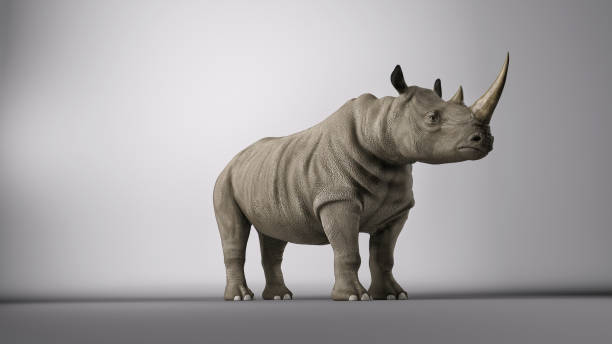rhino: (365, 30, 526, 184)
